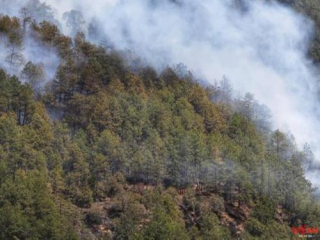smoke: (73, 7, 317, 135), (4, 14, 66, 104)
